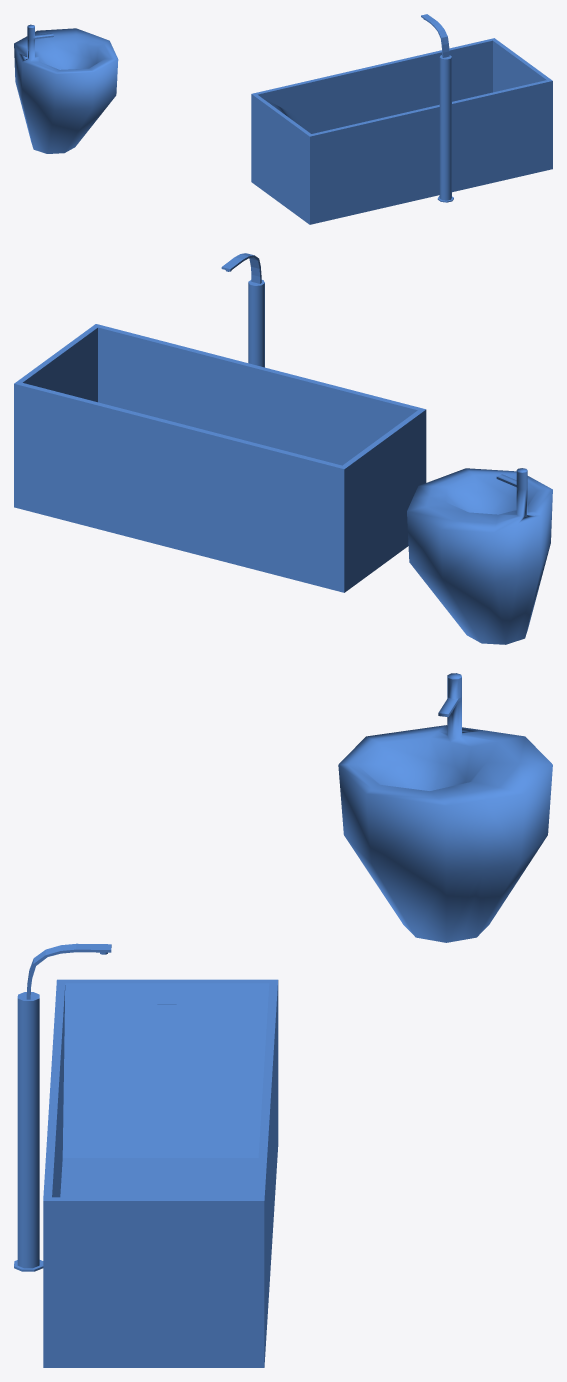
The picture shows the model from 3 angles, top to bottom: view 1: azimuth 30°, elevation 25°; view 2: azimuth 150°, elevation 25°; view 3: azimuth 270°, elevation 25°; orthographic projection. The views are drawn at different scales.
Parts seen in each view (by area): view 1: vasca001, lavandino; view 2: vasca001, lavandino; view 3: vasca001, lavandino.
Boxes of the visible parts, x1=… form: vasca001: x1=251, y1=14, x2=552, y2=224; lavandino: x1=14, y1=24, x2=118, y2=153; vasca001: x1=14, y1=253, x2=426, y2=592; lavandino: x1=407, y1=468, x2=552, y2=644; vasca001: x1=14, y1=943, x2=278, y2=1367; lavandino: x1=338, y1=673, x2=552, y2=942.
Bounding box in the file's own units: 247 × 93.78 × 144.
